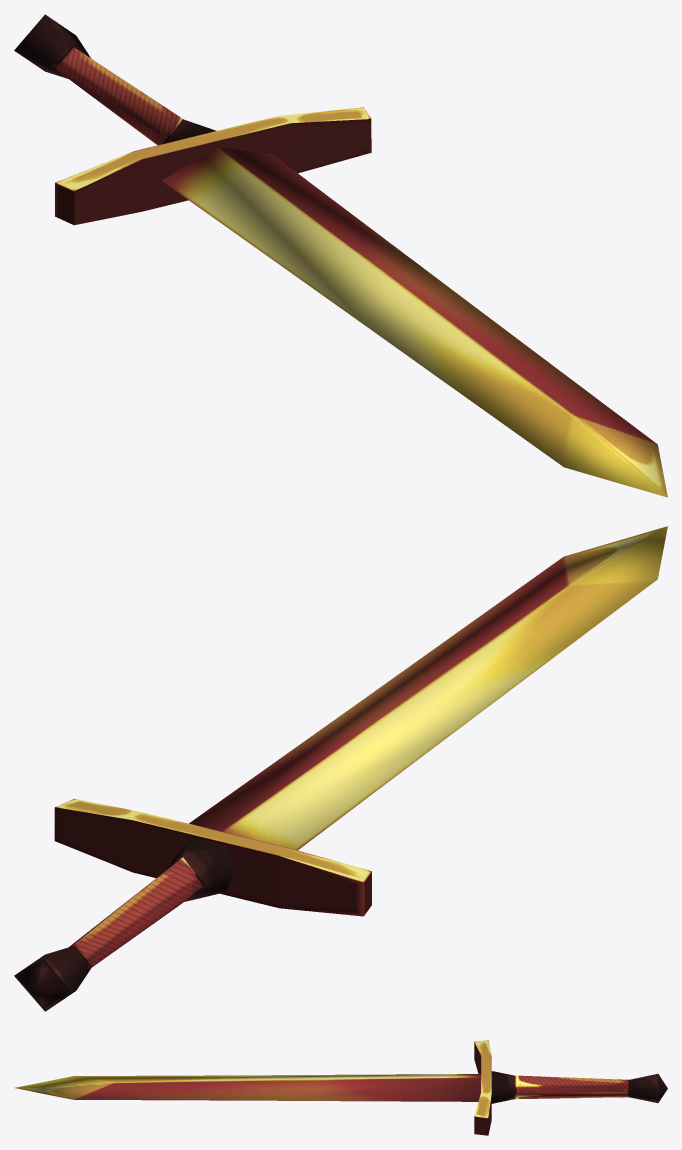
Rendered from sword0022.fbx.
The picture shows the model from 3 angles, top to bottom: view 1: azimuth 30°, elevation 25°; view 2: azimuth 150°, elevation 25°; view 3: azimuth 270°, elevation 25°; orthographic projection. The views are drawn at different scales.
Parts seen in each view (by area): view 1: sword0022; view 2: sword0022; view 3: sword0022.
Part boxes in pixels (x1,y1,x2,y2): sword0022: (14, 14, 667, 497); sword0022: (14, 526, 667, 1011); sword0022: (15, 1040, 667, 1135).
Bounding box in the file's own units: 0.2327 × 0.0412 × 0.8246.
